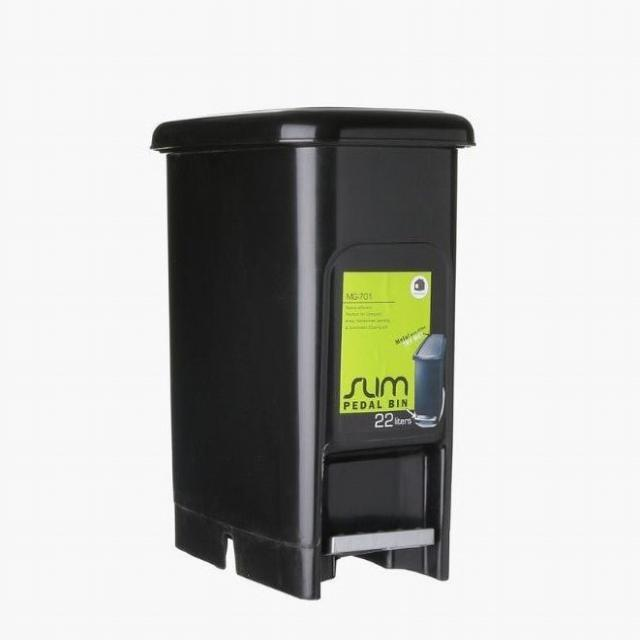Dumpster: (147, 100, 478, 598)
